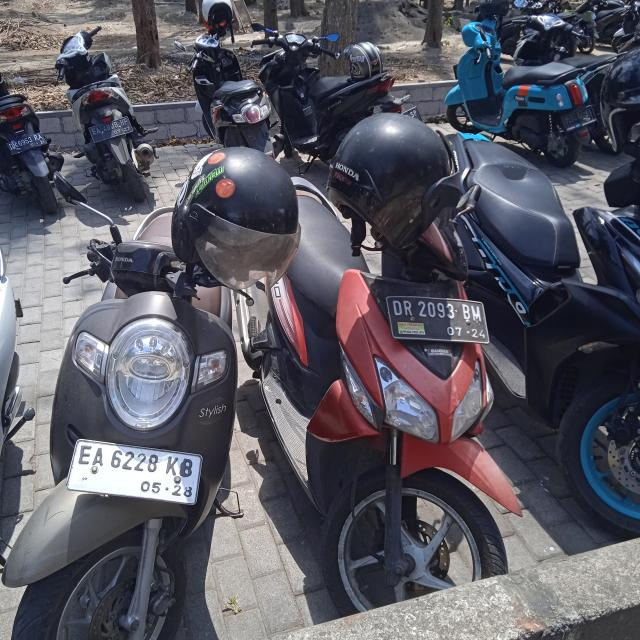plate: (70, 438, 202, 507), (385, 294, 491, 346), (89, 116, 134, 144), (7, 131, 49, 156)
